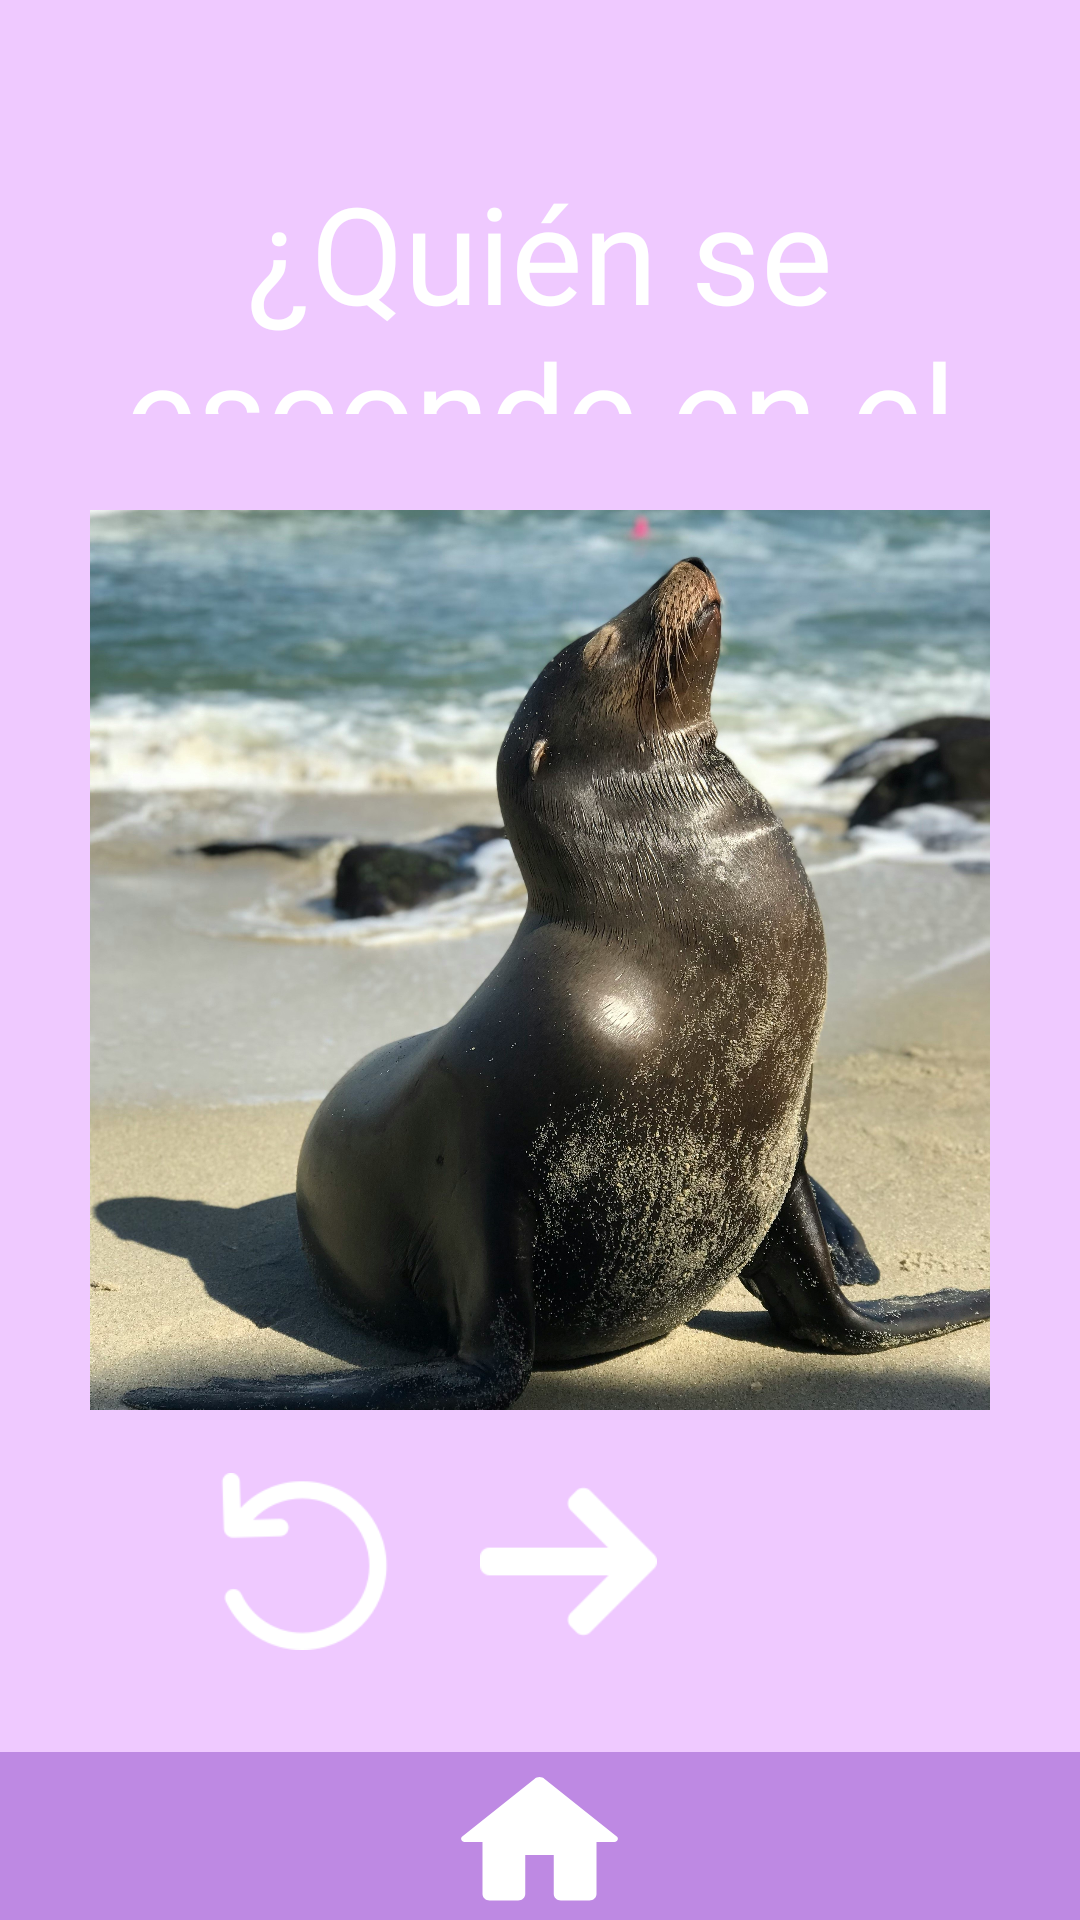

Where icons sit on this 1080 × 1920 app screen, as bbox=(x1, y1, x2, y2):
home: bbox=(461, 1777, 618, 1901)
next: bbox=(480, 1488, 657, 1635)
